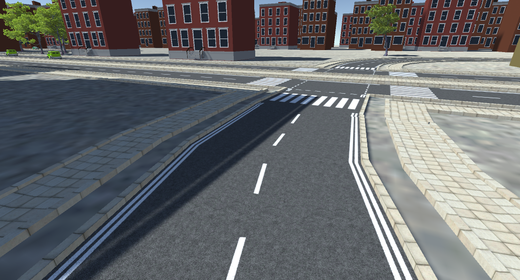centerstrip: (228, 110, 306, 278)
sidestripe: (46, 111, 237, 279), (346, 114, 419, 280)
